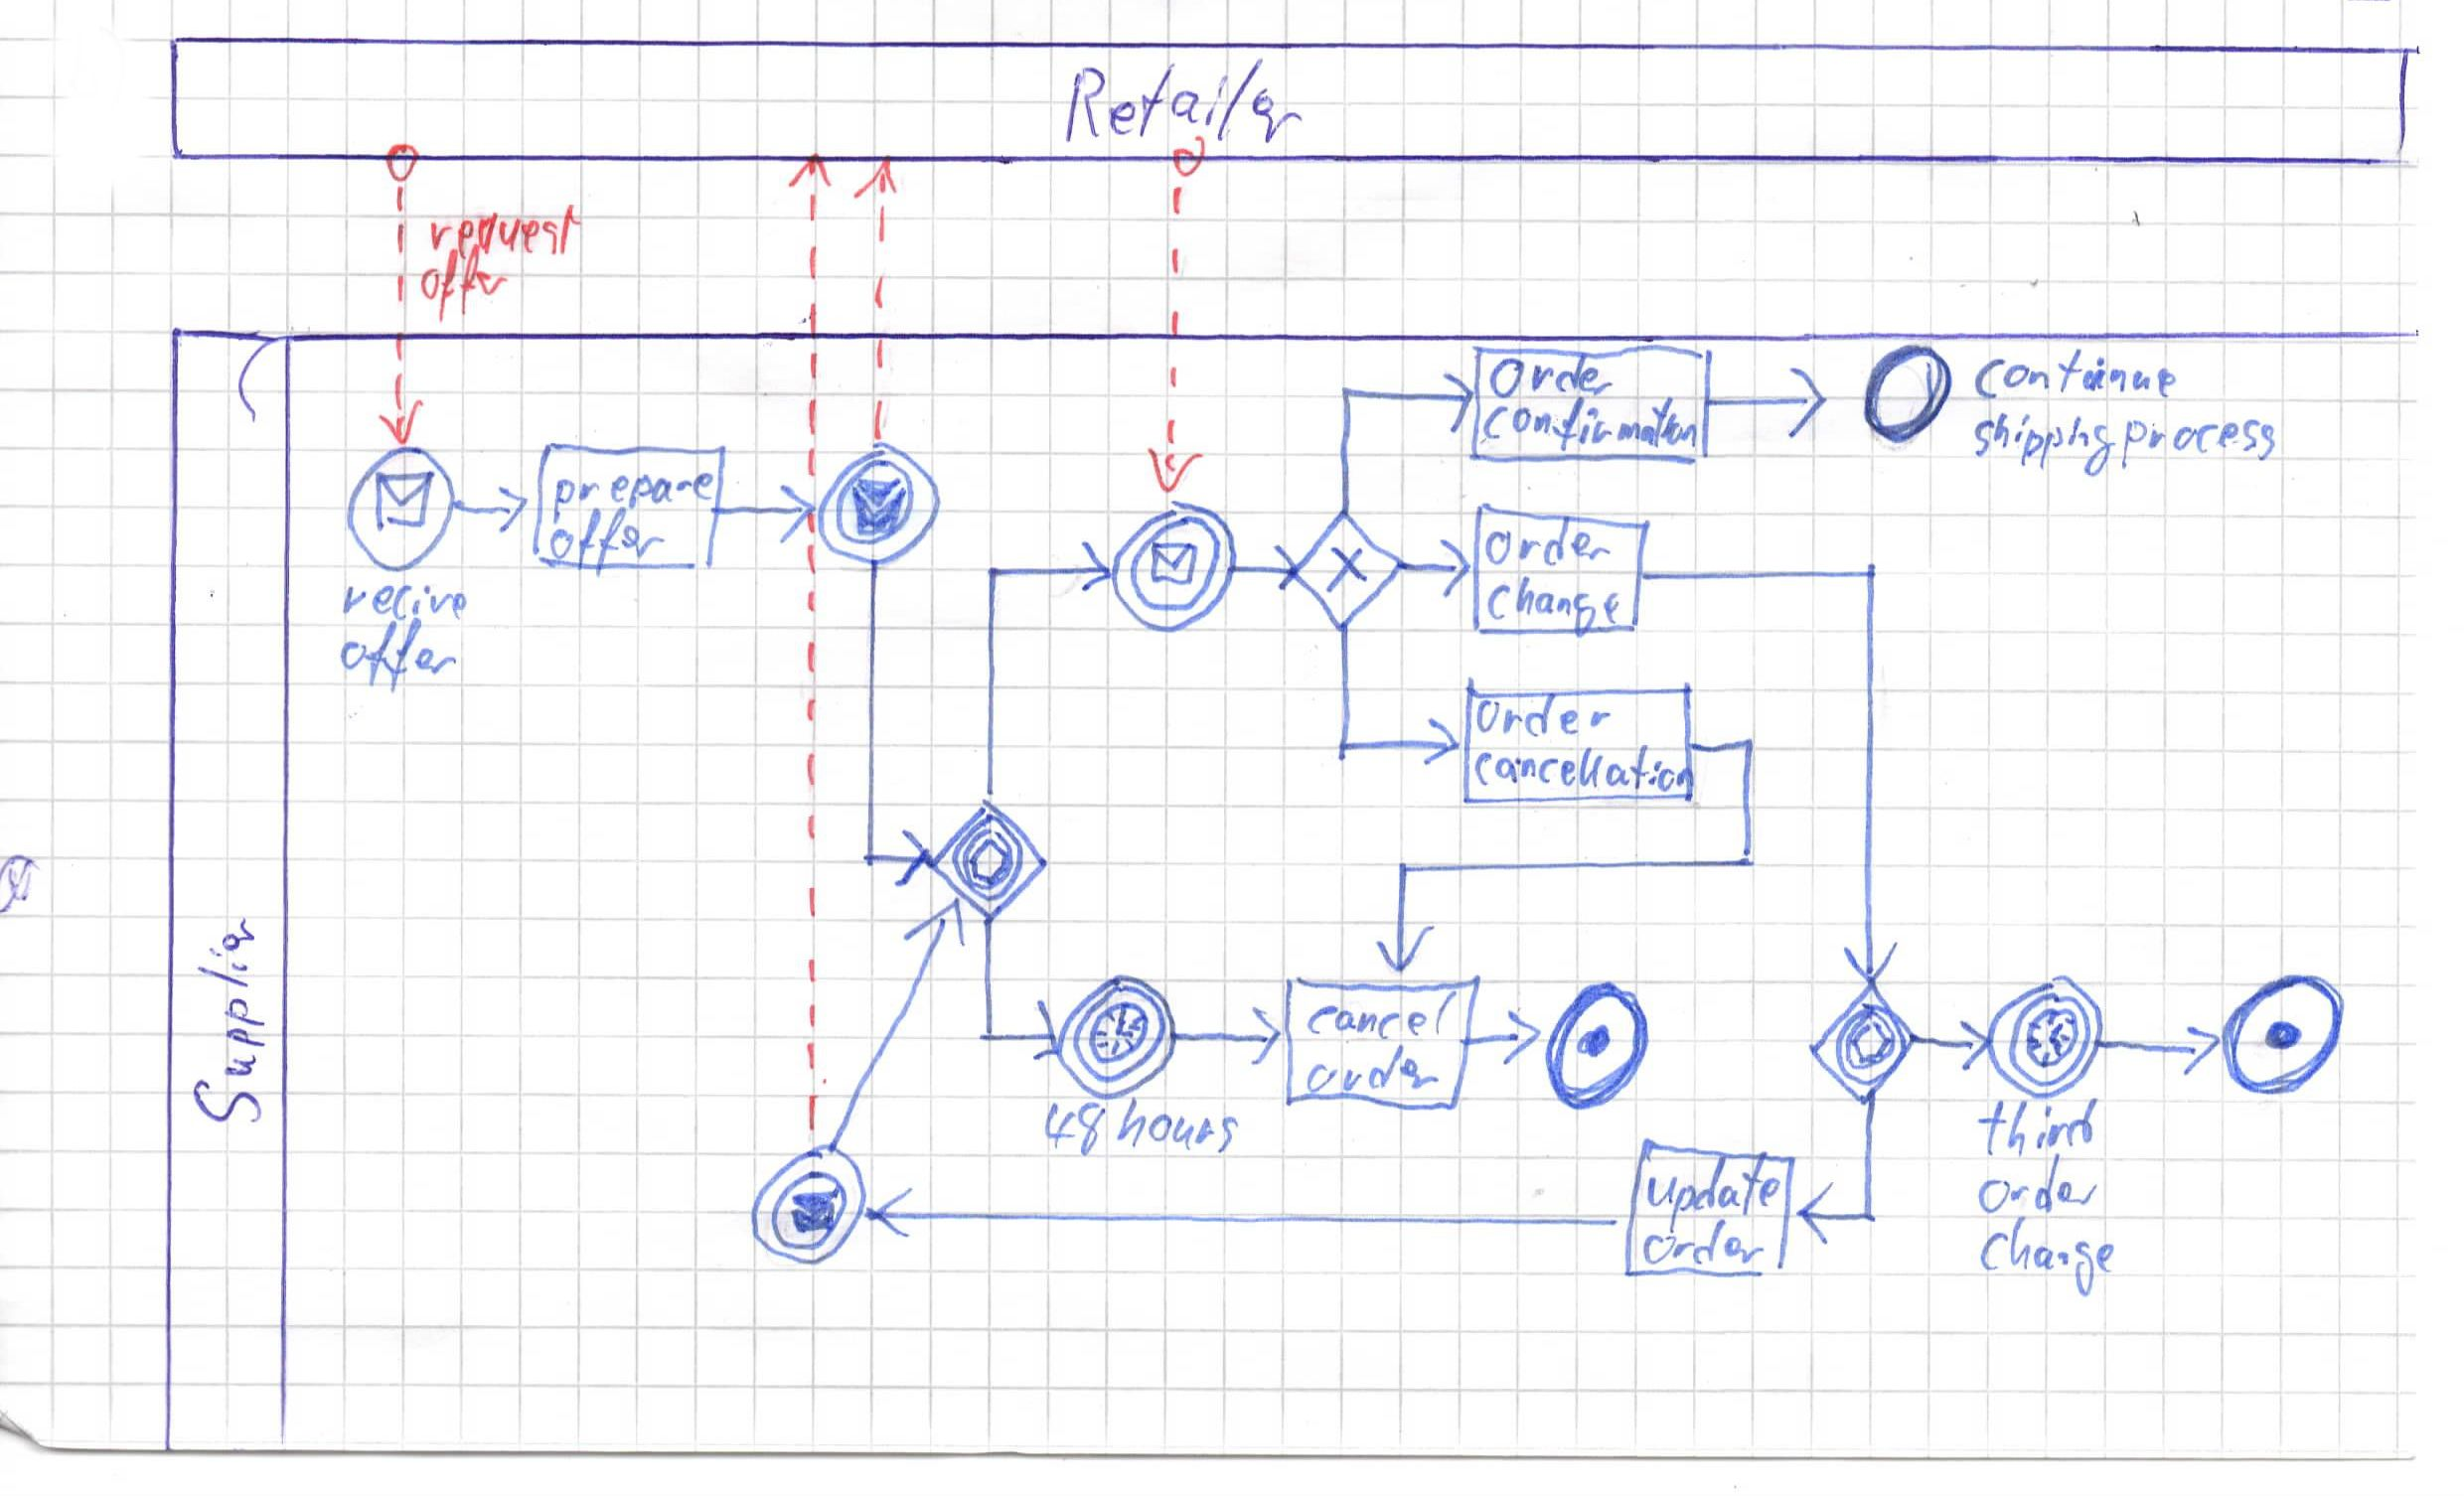48: (1042, 1100, 1107, 1158)
Change: (1480, 577, 1626, 634)
Order: (1475, 699, 1616, 741)
Retailer: (1063, 70, 1299, 144)
Supplier: (185, 915, 264, 1123)
cancel: (1306, 993, 1464, 1040)
cancellation: (1466, 746, 1690, 797)
charge: (1976, 1216, 2116, 1281)
confirmation: (1477, 394, 1700, 451)
continue: (1969, 352, 2182, 415)
hours: (1118, 1098, 1243, 1158)
offer: (333, 621, 456, 688), (551, 505, 674, 572), (417, 250, 510, 320)
order: (1308, 1045, 1443, 1105), (1976, 1153, 2101, 1216), (1635, 1214, 1772, 1271), (1487, 516, 1616, 570), (1484, 347, 1619, 398)
prepare: (551, 465, 722, 514)
process: (2121, 412, 2277, 466)
recive: (341, 577, 468, 625)
request: (426, 204, 583, 259)
shipping: (1966, 414, 2114, 477)
third: (1973, 1100, 2100, 1156)
update: (1646, 1153, 1785, 1216)
